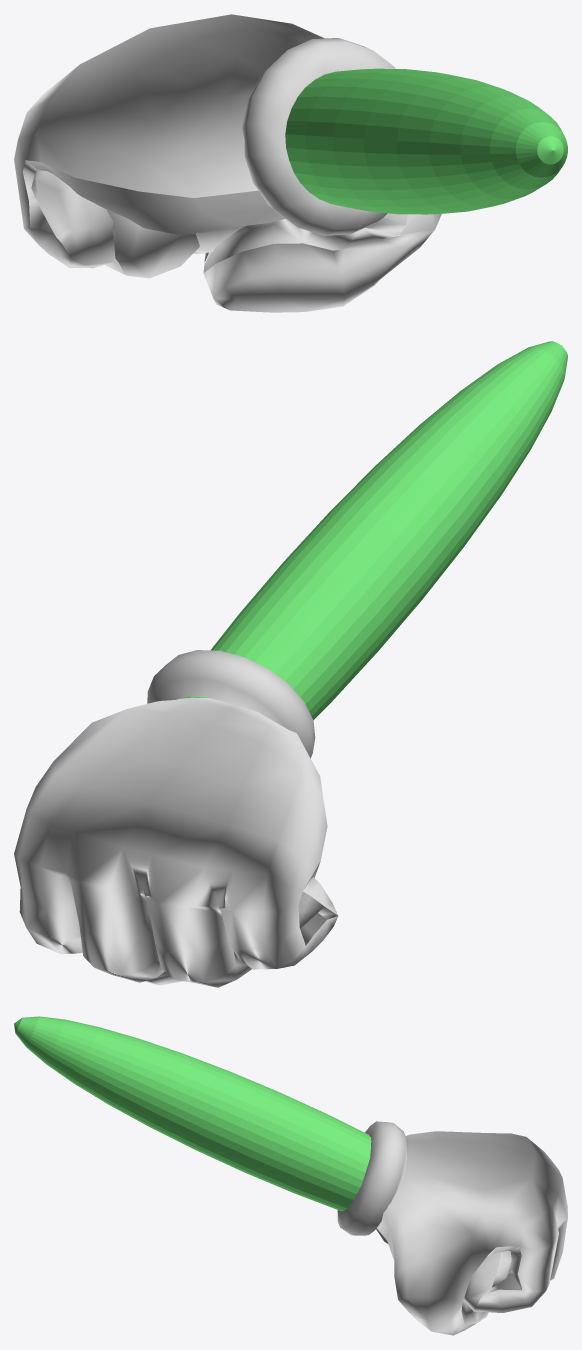
Rendered from Rfist.glb.
The picture shows the model from 3 angles, top to bottom: view 1: azimuth 30°, elevation 25°; view 2: azimuth 150°, elevation 25°; view 3: azimuth 270°, elevation 25°; orthographic projection. The views are drawn at different scales.
Visible parts, largest first — view 1: default.001, Sphere.001; view 2: default.001, Sphere.001; view 3: default.001, Sphere.001.
Boxes of the visible parts, bbox=[...] form: default.001: bbox=[14, 14, 441, 312]; Sphere.001: bbox=[285, 68, 567, 214]; default.001: bbox=[14, 650, 338, 987]; Sphere.001: bbox=[181, 341, 567, 719]; default.001: bbox=[337, 1121, 567, 1335]; Sphere.001: bbox=[14, 1016, 371, 1211].
Size of the model in its own units: 0.3842 by 0.485 by 0.8681.
